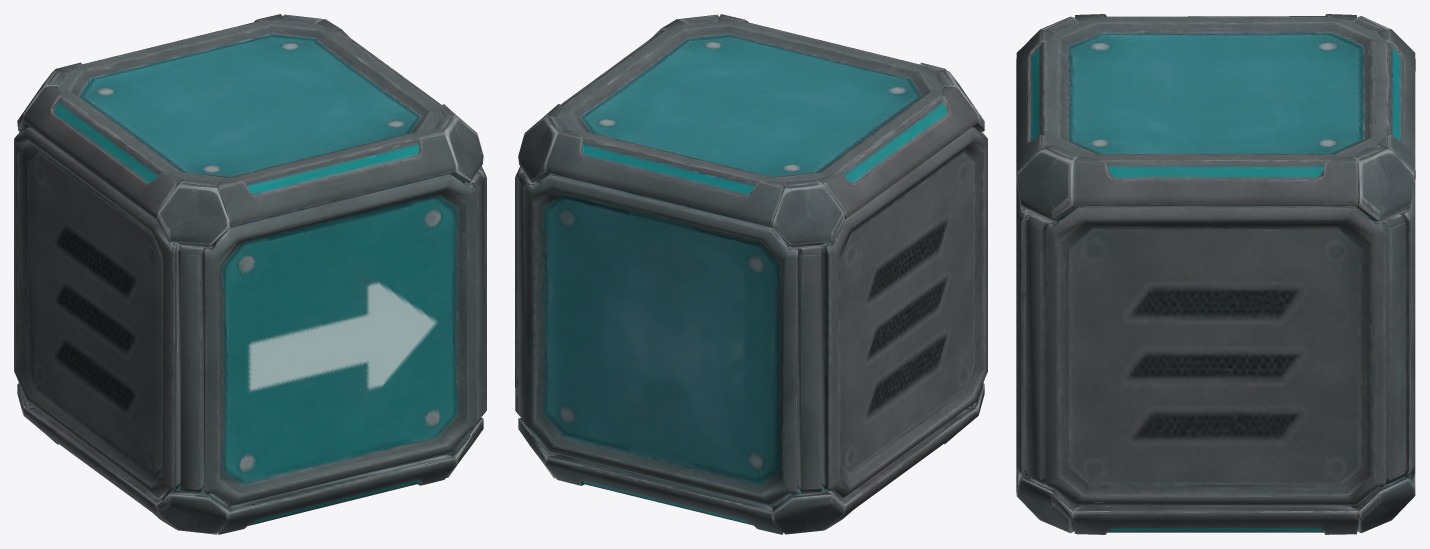
File: SaberCube.fbx
The picture shows the model from 3 angles, left to right: view 1: azimuth 30°, elevation 25°; view 2: azimuth 150°, elevation 25°; view 3: azimuth 270°, elevation 25°; orthographic projection. The views are drawn at different scales.
Parts seen in each view (by area): view 1: Mesh_0; view 2: Mesh_0; view 3: Mesh_0.
Part boxes in pixels (x1,y1,x2,y2): Mesh_0: (14,14,486,534); Mesh_0: (515,14,987,534); Mesh_0: (1016,14,1415,534).
Size of the model in its own units: 91.36 by 94.14 by 91.41.
Materials: 1 (1 with a texture image).
